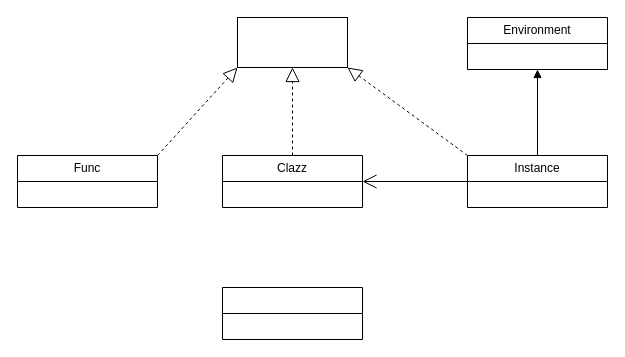
The diagram is 625 pixels wide and 357 high, and some of its shapes have lost their labels. Each missing label, with the centre of its shape:
"Value" belongs at (x=292, y=313).
"«interface» Callable" belongs at (x=292, y=42).
